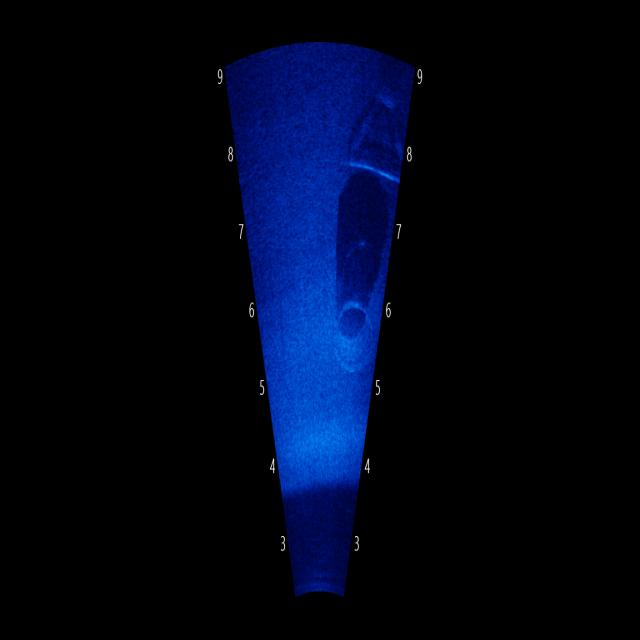circle: (328, 278, 378, 393)
